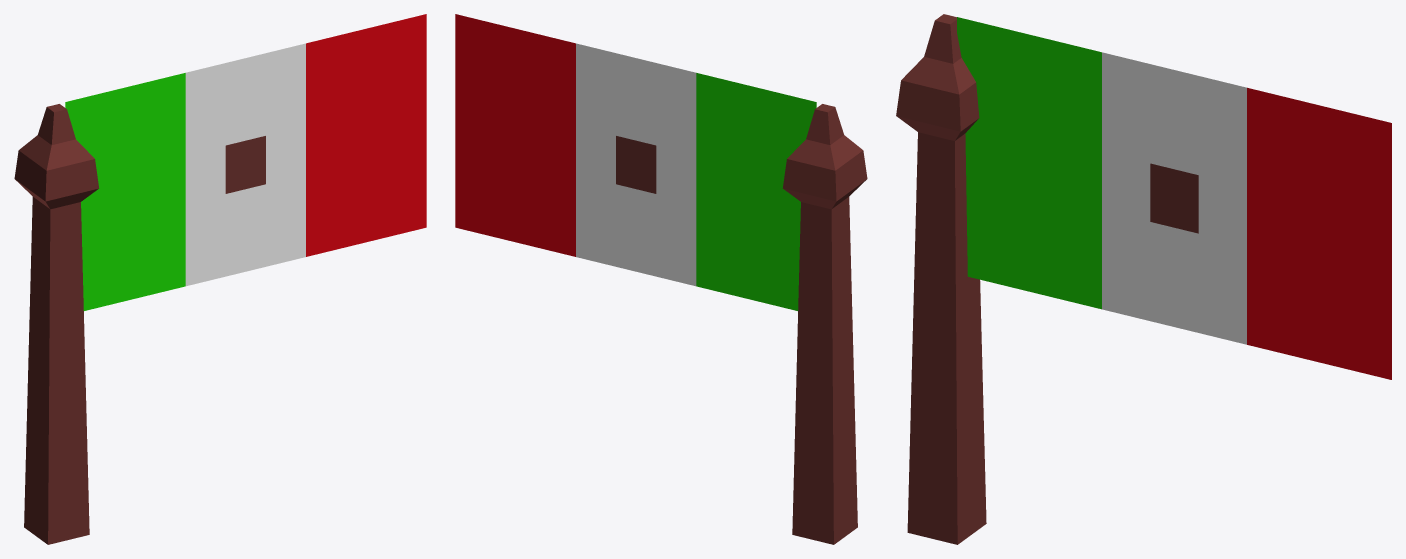
The model's file is Bandera.glb.
3 views of the same model, side by side, from view 1: azimuth 30°, elevation 25°; view 2: azimuth 150°, elevation 25°; view 3: azimuth 330°, elevation 25° (orthographic). The views are drawn at different scales.
Visible parts, largest first — view 1: Cube; view 2: Cube; view 3: Cube.
Part boxes in pixels (box(x1,y1,x2,y2)): Cube: box(14, 14, 426, 544); Cube: box(455, 14, 867, 544); Cube: box(896, 14, 1391, 544).
Size of the model in its own units: 1.65 by 1.69 by 0.223.
